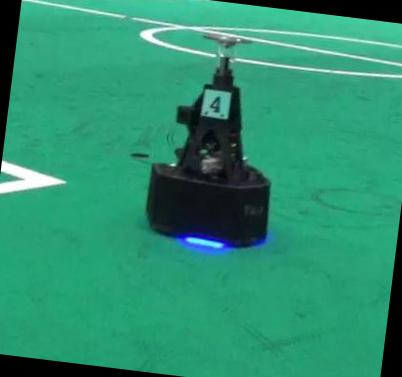robot: (146, 34, 270, 246)
